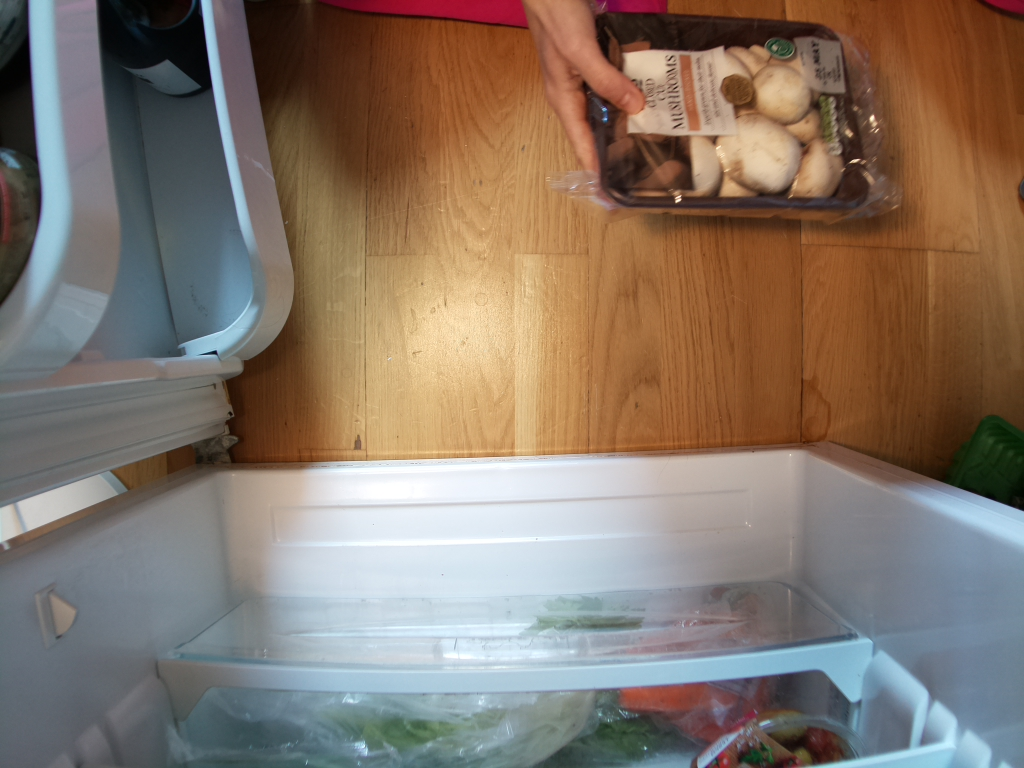mushrooms: (573, 7, 913, 237)
